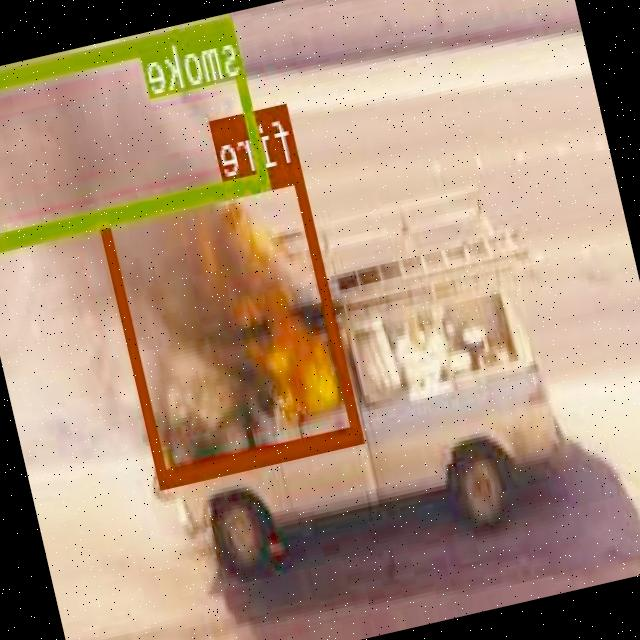fire: (97, 161, 364, 482)
smoke: (0, 12, 272, 251)
